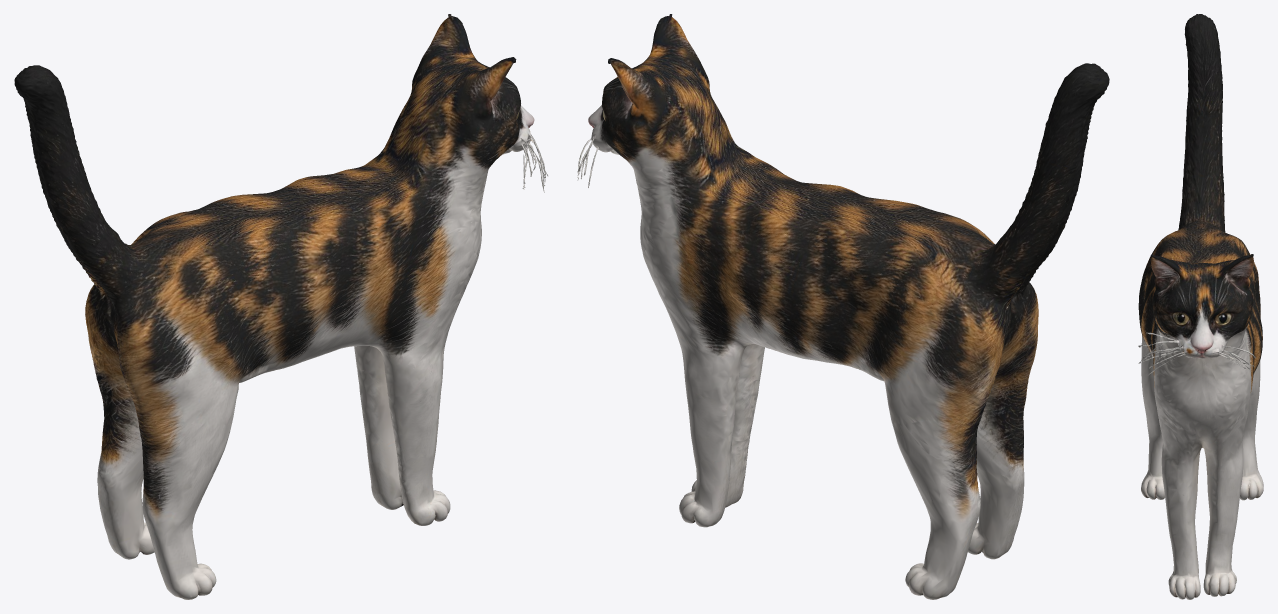
The model's file is SHACHIHIME.glb.
3 views of the same model, side by side, from view 1: azimuth 30°, elevation 25°; view 2: azimuth 150°, elevation 25°; view 3: azimuth 270°, elevation 25° (orthographic). The views are drawn at different scales.
Visible parts, largest first — view 1: tripo_node_39708b36-a44c-4606-a248-9aedc5c88788; view 2: tripo_node_39708b36-a44c-4606-a248-9aedc5c88788; view 3: tripo_node_39708b36-a44c-4606-a248-9aedc5c88788.
Part boxes in pixels (box(x1,y1,x2,y2)): tripo_node_39708b36-a44c-4606-a248-9aedc5c88788: box(14, 14, 547, 599); tripo_node_39708b36-a44c-4606-a248-9aedc5c88788: box(577, 14, 1109, 599); tripo_node_39708b36-a44c-4606-a248-9aedc5c88788: box(1138, 14, 1263, 599).
Bounding box in the file's own units: 1 × 1 × 0.2641.
Materials: 1 (1 with a texture image).
